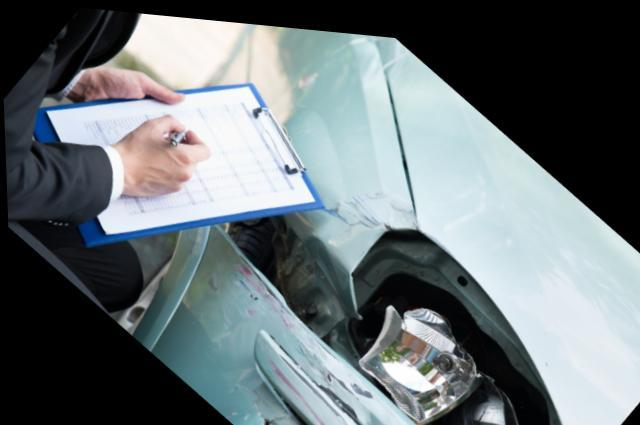crack: (257, 408, 272, 425)
lamp broken: (349, 218, 566, 425)
scratch: (206, 256, 405, 425), (319, 180, 414, 240)
